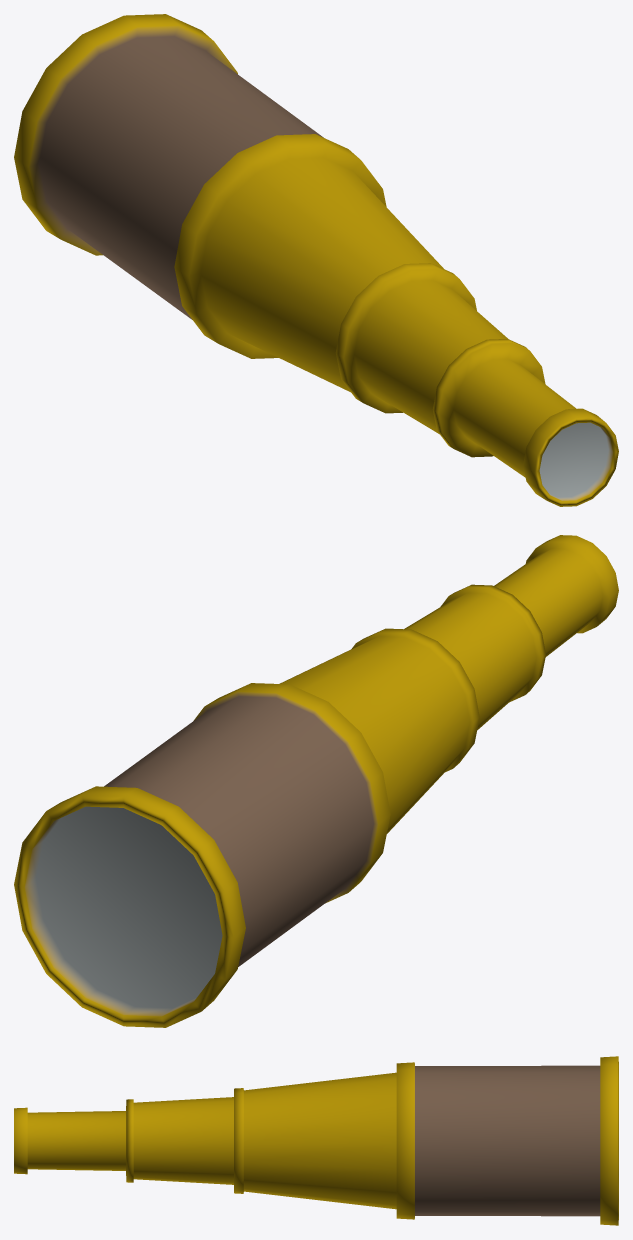
The model's file is 1catalejo.glb.
3 renders of one model, top to bottom at view 1: azimuth 30°, elevation 25°; view 2: azimuth 150°, elevation 25°; view 3: azimuth 270°, elevation 25°, orthographic. The views are drawn at different scales.
Visible parts, largest first — view 1: Catalejo_pirata_Catalejo_pirata_0; view 2: Catalejo_pirata_Catalejo_pirata_0; view 3: Catalejo_pirata_Catalejo_pirata_0.
Boxes of the visible parts, x1,y1,x2,y2 form: Catalejo_pirata_Catalejo_pirata_0: (14, 14, 618, 506); Catalejo_pirata_Catalejo_pirata_0: (14, 535, 618, 1027); Catalejo_pirata_Catalejo_pirata_0: (14, 1056, 618, 1225).
Bounding box in the file's own units: 0.0673 × 0.0673 × 0.2403.
